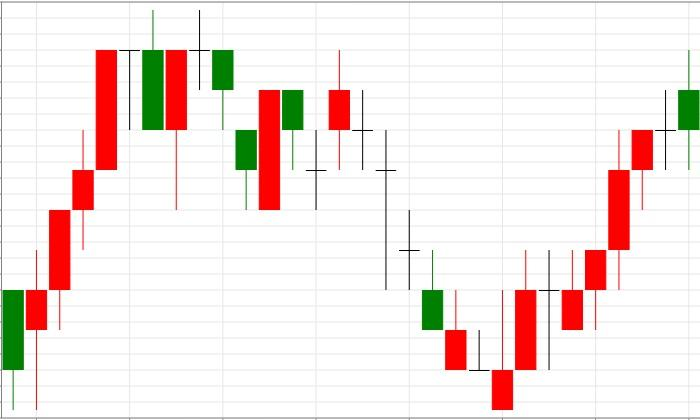inverse_hammer_rise: (329, 49, 514, 411)
